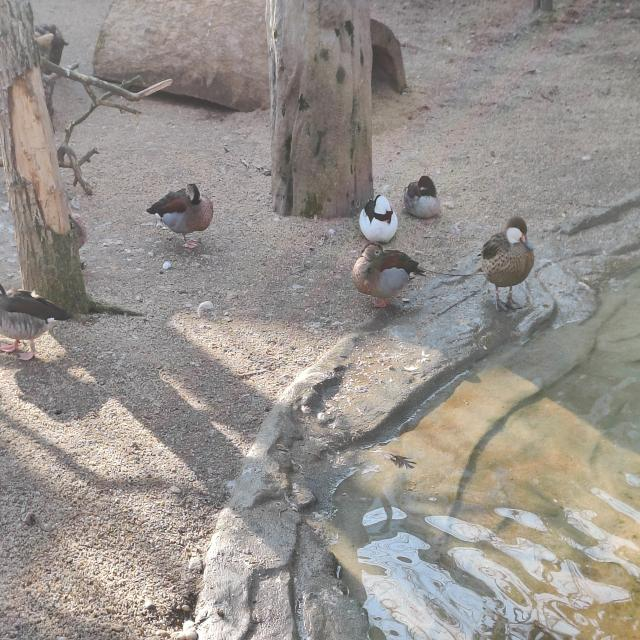bird: (0, 284, 73, 361), (481, 216, 535, 311), (352, 242, 426, 308), (146, 183, 213, 248), (359, 195, 398, 242), (404, 176, 440, 218)
